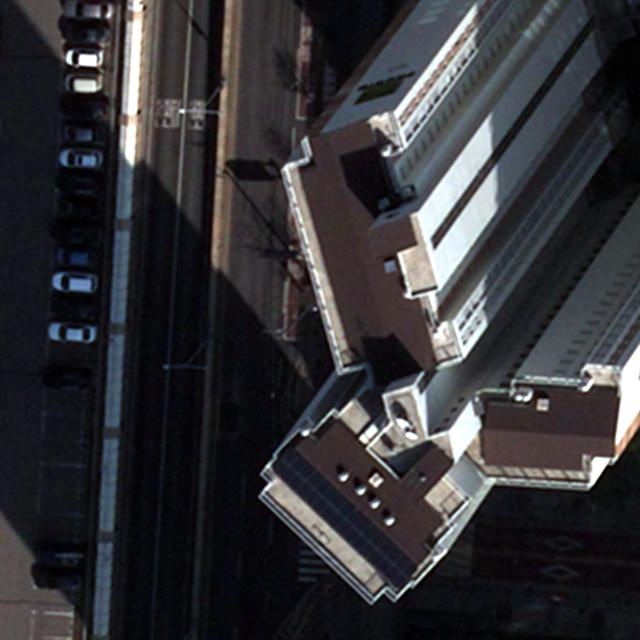panel: (272, 449, 420, 594)
